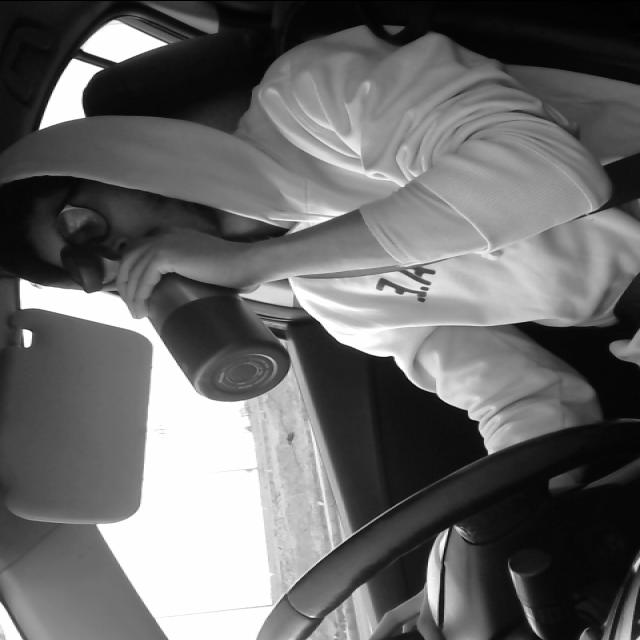drinking: (57, 236, 291, 405)
